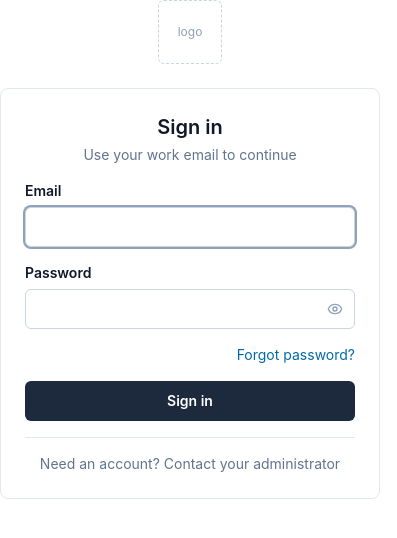
it: LoginPage (client-side email validation) › clears the inline email error once a valid email is entered
Click the button "Sign in". click: (190, 401)
box: [25,381,355,421]
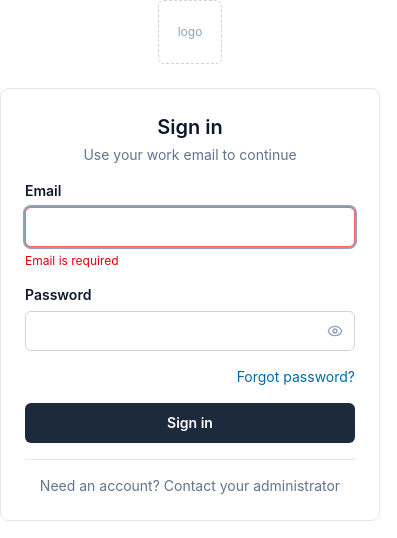
Check: the text "Email is required" is shown, box [25,253,119,268]
Type "sam@example.com" into the field labelled "Email". click: (190, 227)
box: [25,207,355,247]
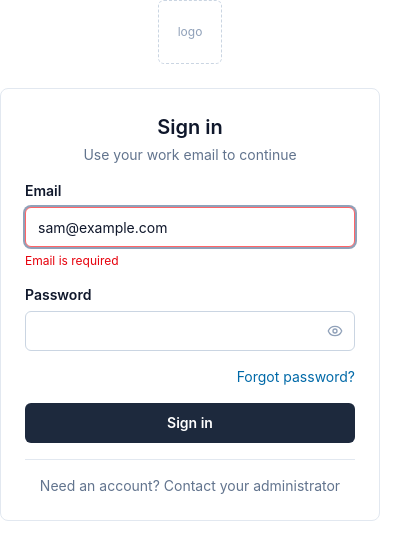
Click the button "Sign in". click: (190, 423)
box: [25,403,355,443]
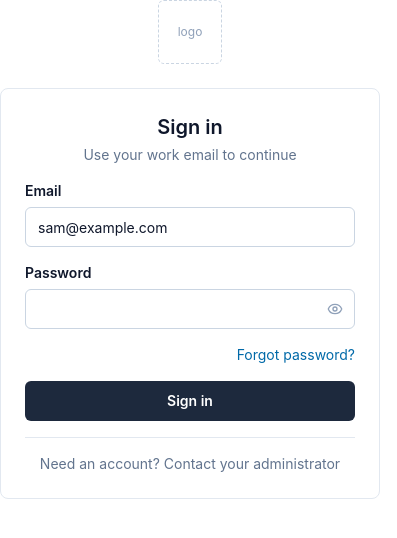
Check: the text "Email is required" is gone
